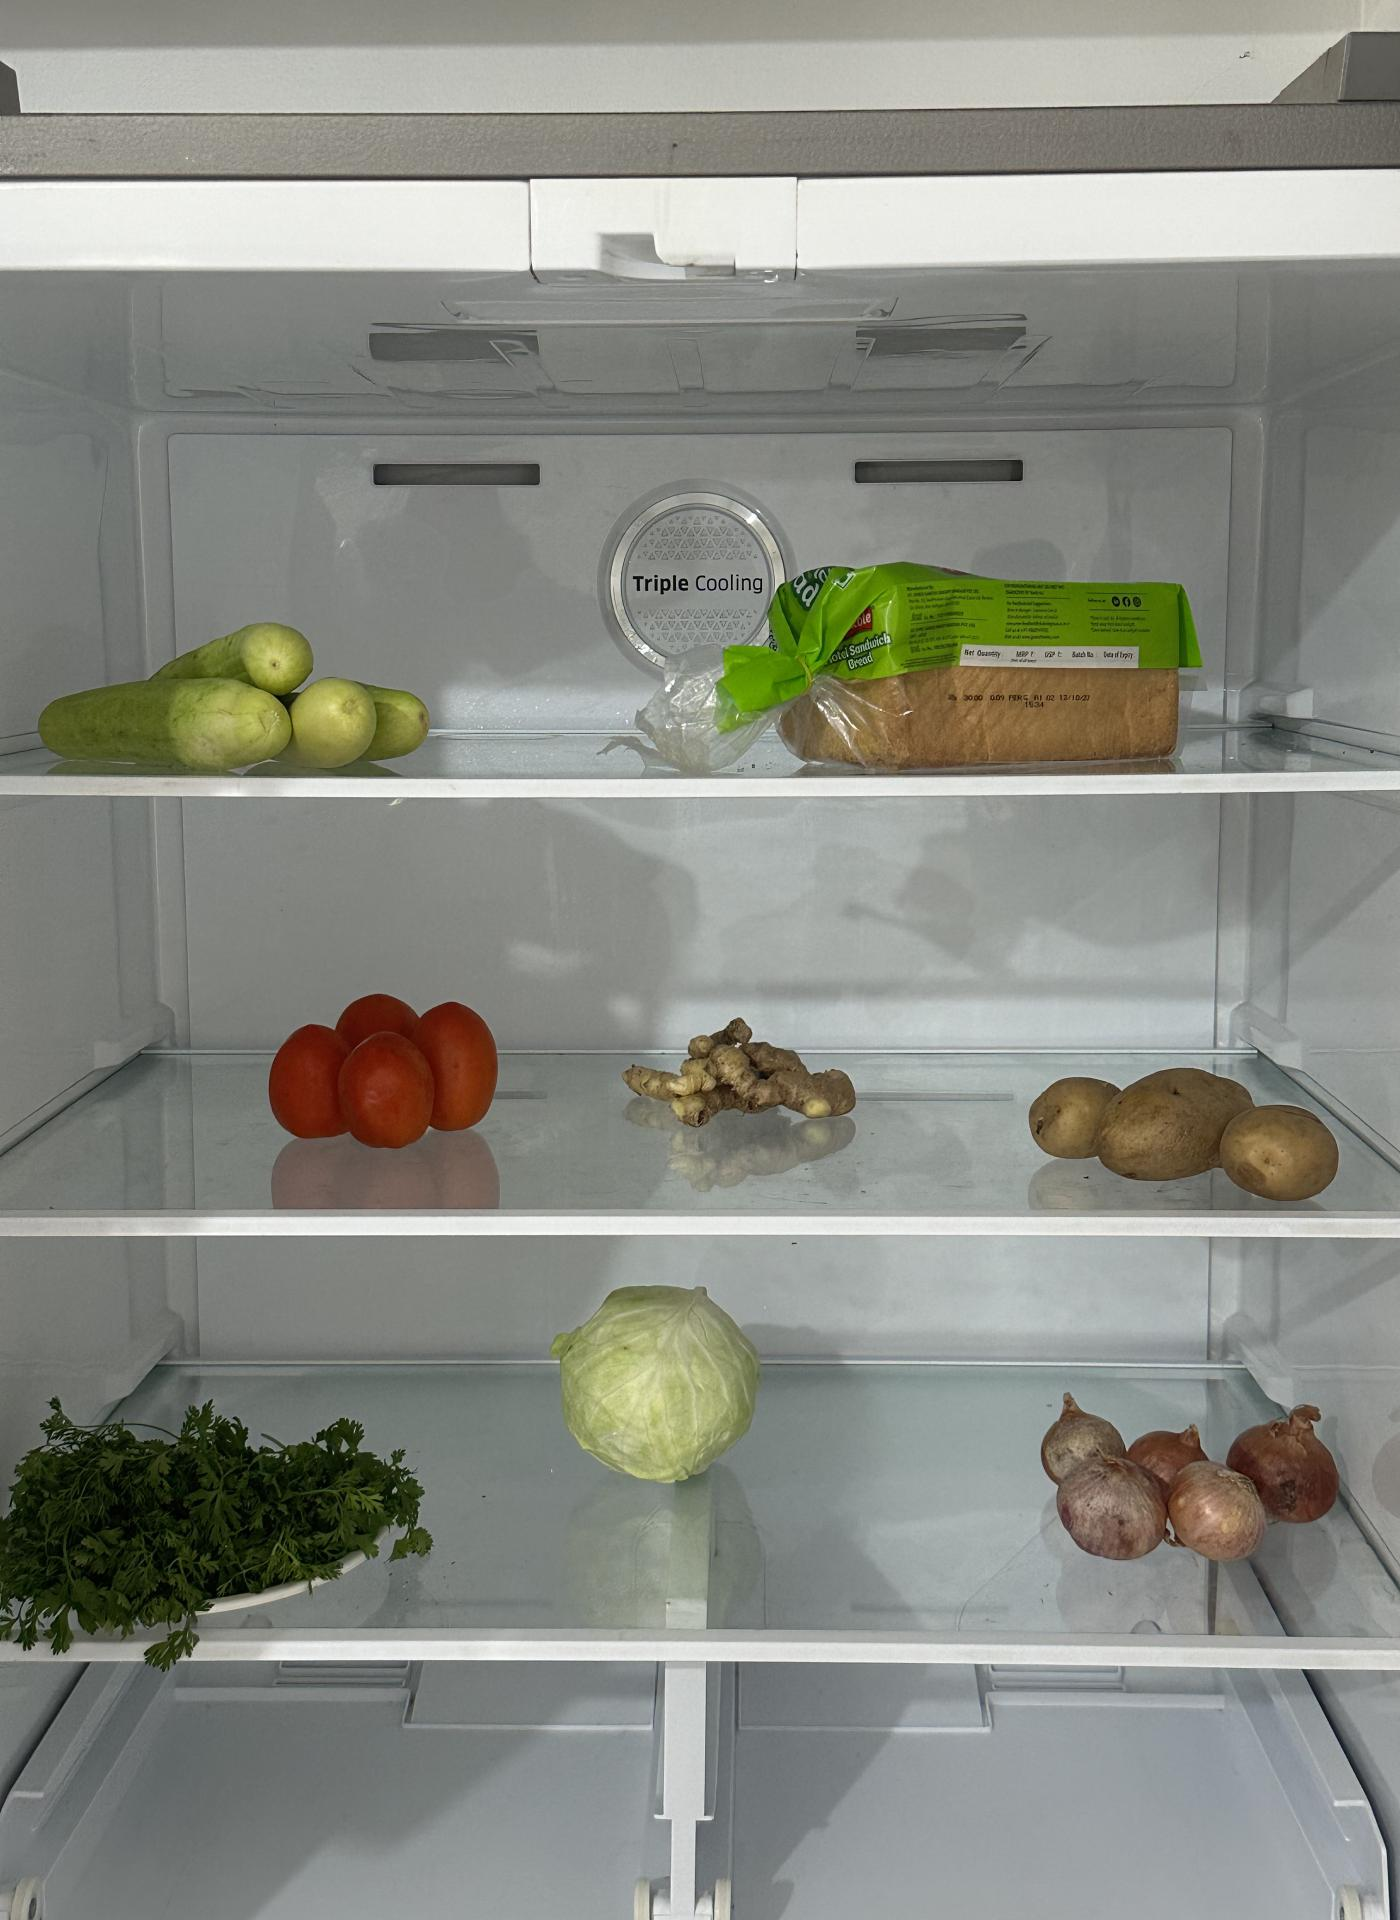bread: (769, 550, 1199, 774)
cabbage: (550, 1275, 757, 1488)
coriander: (30, 1413, 404, 1614)
cucumber: (45, 617, 423, 771)
ginger: (614, 1020, 854, 1134)
onion: (1032, 1377, 1337, 1562)
potato: (1032, 1058, 1346, 1206)
tomato: (267, 981, 498, 1149)
